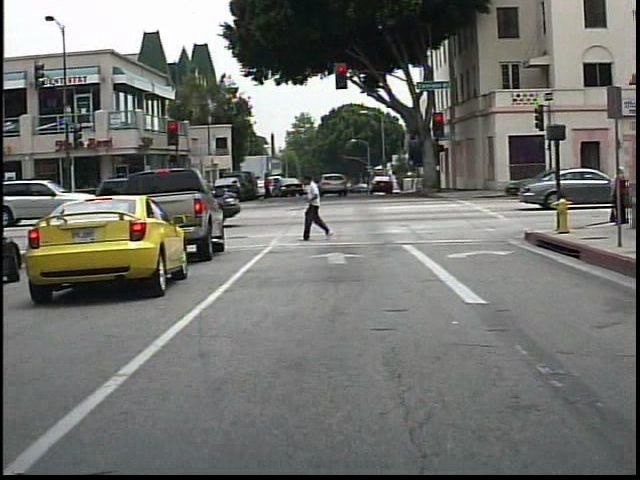person: (298, 172, 336, 244), (606, 163, 629, 228), (260, 167, 278, 206)
